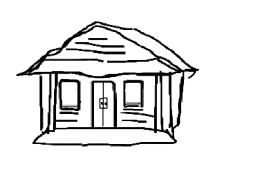door: (87, 77, 121, 133)
open_window: (57, 78, 83, 113), (122, 79, 146, 111)
roof: (17, 21, 199, 78)
wall: (37, 70, 184, 138)
